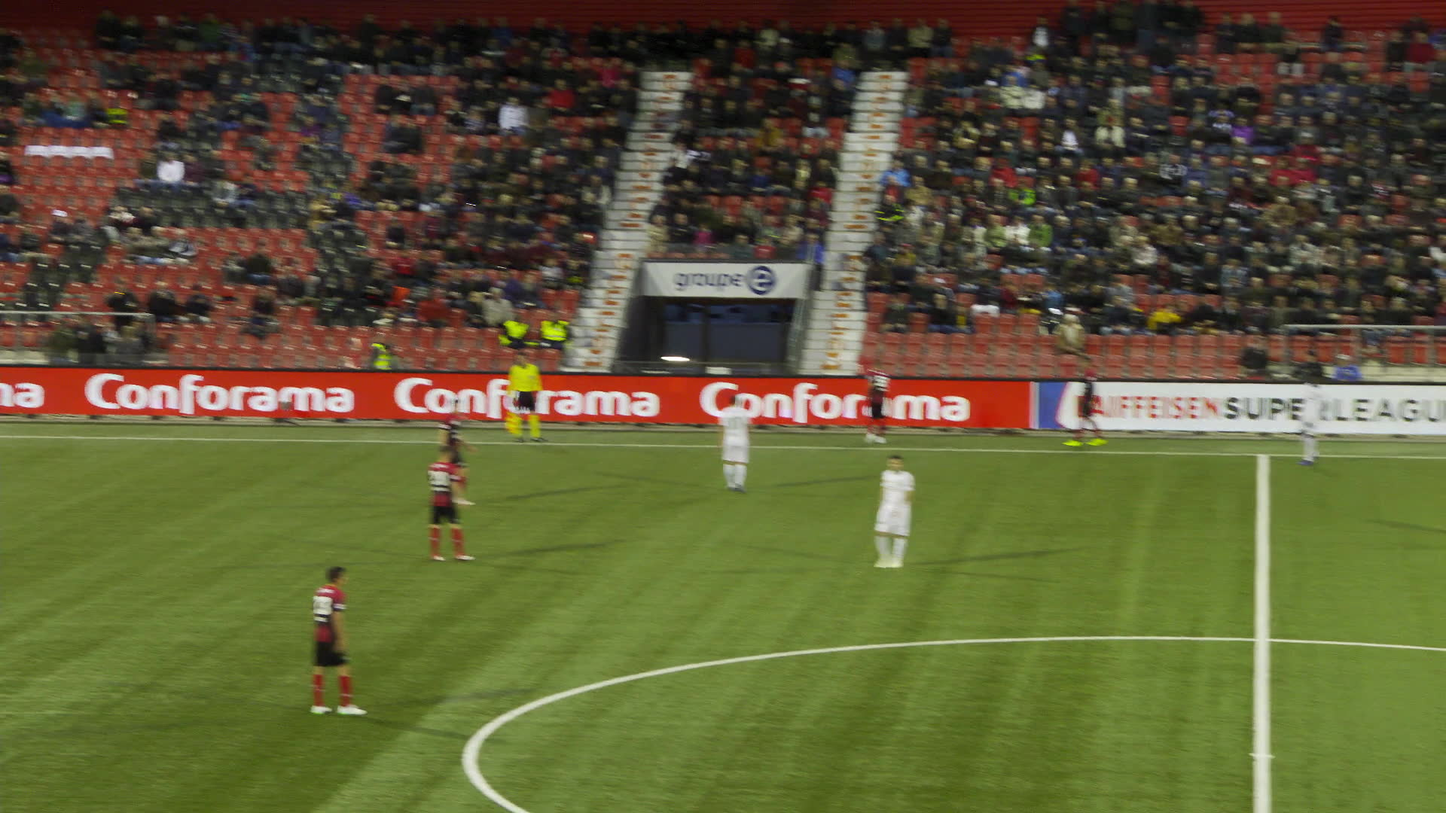player: (320, 569, 377, 717), (877, 458, 926, 571), (436, 446, 479, 564), (1075, 358, 1115, 449), (448, 402, 484, 499), (726, 397, 761, 495), (869, 363, 899, 446), (1307, 375, 1331, 467)
referee: (514, 355, 557, 445)
